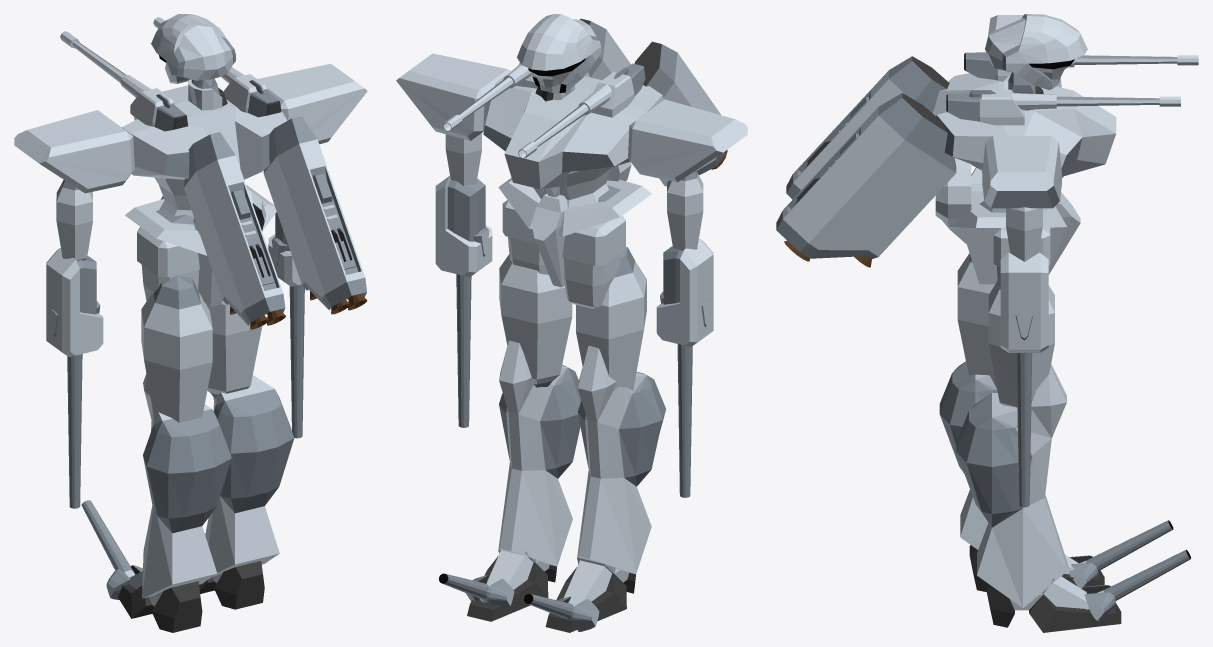
The model's file is zentai.FBX.
The picture shows the model from 3 angles, left to right: view 1: azimuth 30°, elevation 25°; view 2: azimuth 150°, elevation 25°; view 3: azimuth 270°, elevation 25°; orthographic projection.
Parts seen in each view (by area): view 1: VIFS007, VIFS035, VIFS018, VIFS041, VIFS009, VIFS025, VIFS011, VIFS027, VIFS008, VIFS010, VIFS030, VIFS047 (+21 smaller); view 2: VIFS008, VIFS010, VIFS011, VIFS025, VIFS016, VIFS018, VIFS014, VIFS027, VIFS021, VIFS030, VIFS047, VIFS007 (+24 smaller); view 3: VIFS035, VIFS010, VIFS011, VIFS009, VIFS030, VIFS027, VIFS056, VIFS014, VIFS033, VIFS018, VIFS016, VIFS063 (+17 smaller).
Part boxes in pixels (left/top/right/bottom): VIFS007: left=143, top=409, right=231, bottom=533; VIFS035: left=263, top=139, right=365, bottom=297; VIFS018: left=141, top=292, right=212, bottom=422; VIFS041: left=184, top=155, right=283, bottom=312; VIFS009: left=213, top=389, right=294, bottom=513; VIFS025: left=14, top=110, right=134, bottom=193; VIFS011: left=122, top=85, right=287, bottom=179; VIFS027: left=257, top=63, right=367, bottom=144; VIFS008: left=142, top=374, right=217, bottom=598; VIFS010: left=206, top=375, right=279, bottom=576; VIFS030: left=151, top=14, right=232, bottom=83; VIFS047: left=46, top=248, right=103, bottom=356; VIFS008: left=577, top=345, right=651, bottom=574; VIFS010: left=498, top=340, right=572, bottom=566; VIFS011: left=485, top=72, right=663, bottom=189; VIFS025: left=628, top=99, right=747, bottom=182; VIFS016: left=499, top=254, right=572, bottom=384; VIFS018: left=576, top=261, right=646, bottom=390; VIFS014: left=498, top=178, right=651, bottom=287; VIFS027: left=396, top=53, right=510, bottom=140; VIFS021: left=562, top=216, right=625, bottom=308; VIFS030: left=517, top=14, right=601, bottom=93; VIFS047: left=656, top=238, right=713, bottom=346; VIFS007: left=577, top=372, right=665, bottom=486; VIFS035: left=782, top=107, right=955, bottom=256; VIFS010: left=977, top=364, right=1067, bottom=607; VIFS011: left=933, top=73, right=1116, bottom=176; VIFS009: left=956, top=393, right=1032, bottom=527; VIFS030: left=985, top=14, right=1087, bottom=90; VIFS027: left=982, top=136, right=1061, bottom=207; VIFS056: left=1000, top=253, right=1048, bottom=352; VIFS014: left=942, top=167, right=1080, bottom=284; VIFS033: left=776, top=93, right=956, bottom=259; VIFS018: left=957, top=253, right=996, bottom=387; VIFS016: left=988, top=281, right=1054, bottom=407; VIFS063: left=978, top=89, right=1180, bottom=125.
Size of the model in its own units: 0.5254 by 0.9016 by 0.5829.
